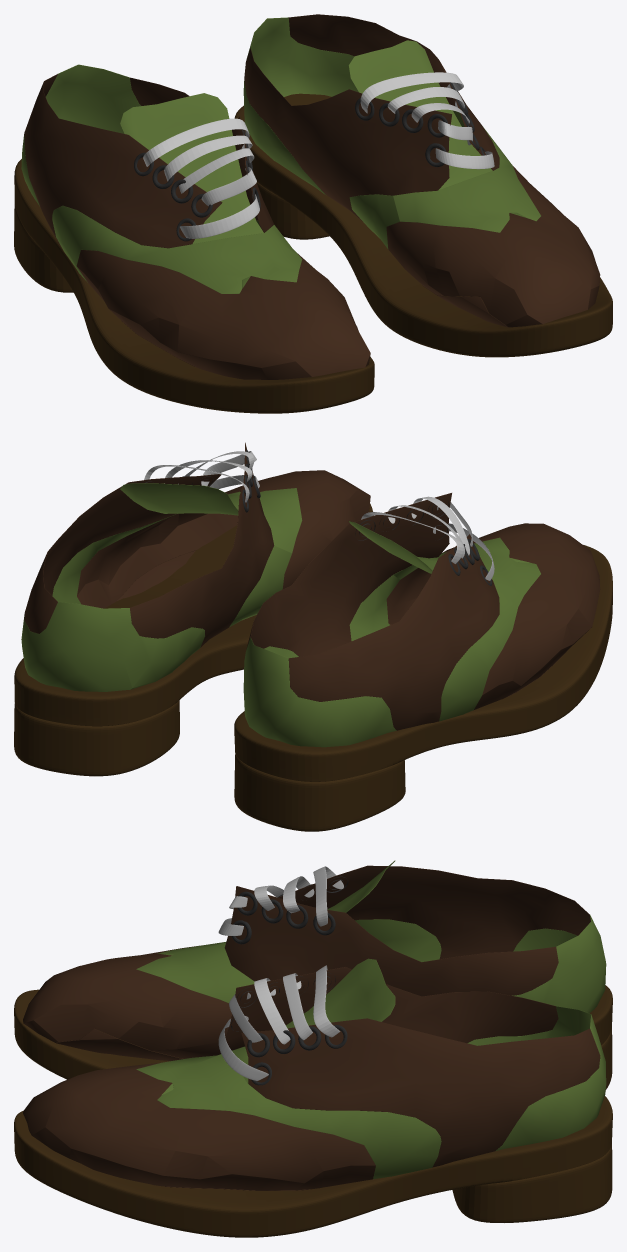
The picture shows the model from 3 angles, top to bottom: view 1: azimuth 30°, elevation 25°; view 2: azimuth 150°, elevation 25°; view 3: azimuth 270°, elevation 25°; orthographic projection.
Parts seen in each view (by area): view 1: zapato2.001, zapato2, Plane, Plane.011, Plane.007, Plane.004, Plane.006, Plane.008, Plane.003, Plane.010, Plane.009, Plane.005; view 2: zapato2.001, zapato2, Plane.011, Plane, Plane.010; view 3: zapato2, zapato2.001, Plane, Plane.011, Plane.001, Plane.003, Plane.004, Plane.007, Plane.005, Plane.008, Plane.002.
Part boxes in pixels (left/top/right/bottom): zapato2.001: left=21, top=64, right=370, bottom=379; zapato2: left=243, top=14, right=600, bottom=327; Plane: left=234, top=93, right=612, bottom=357; Plane.011: left=14, top=159, right=374, bottom=413; Plane.007: left=143, top=118, right=249, bottom=166; Plane.004: left=360, top=72, right=463, bottom=113; Plane.006: left=180, top=194, right=259, bottom=238; Plane.008: left=164, top=135, right=252, bottom=181; Plane.003: left=387, top=87, right=464, bottom=113; Plane.010: left=179, top=148, right=254, bottom=193; Plane.009: left=201, top=167, right=256, bottom=206; Plane.005: left=435, top=148, right=494, bottom=169; zapato2.001: left=243, top=493, right=600, bottom=747; zapato2: left=21, top=442, right=370, bottom=691; Plane.011: left=234, top=545, right=612, bottom=831; Plane: left=14, top=503, right=373, bottom=776; Plane.010: left=411, top=496, right=469, bottom=555; zapato2: left=23, top=958, right=606, bottom=1190; zapato2.001: left=23, top=860, right=606, bottom=1060; Plane: left=14, top=1096, right=612, bottom=1237; Plane.011: left=14, top=985, right=612, bottom=1089; Plane.001: left=254, top=978, right=290, bottom=1044; Plane.003: left=283, top=973, right=312, bottom=1040; Plane.004: left=313, top=965, right=340, bottom=1037; Plane.007: left=313, top=866, right=343, bottom=926; Plane.005: left=218, top=1016, right=268, bottom=1080; Plane.008: left=283, top=876, right=314, bottom=913; Plane.002: left=229, top=992, right=262, bottom=1042.
Bounding box in the file's own units: 390 × 176 × 447.
